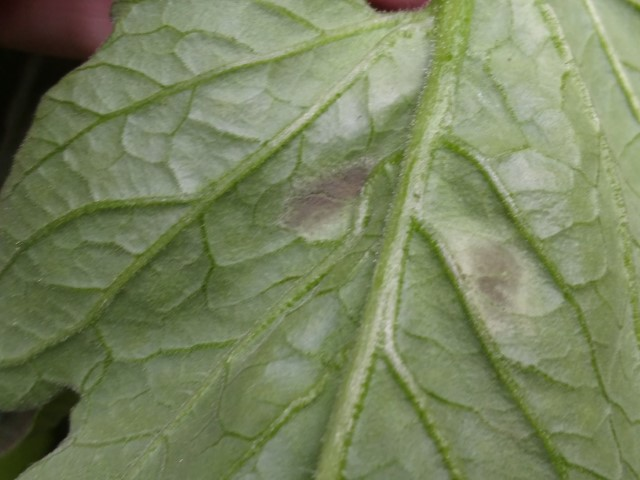cladosporium: (285, 153, 374, 237), (460, 240, 527, 315)
